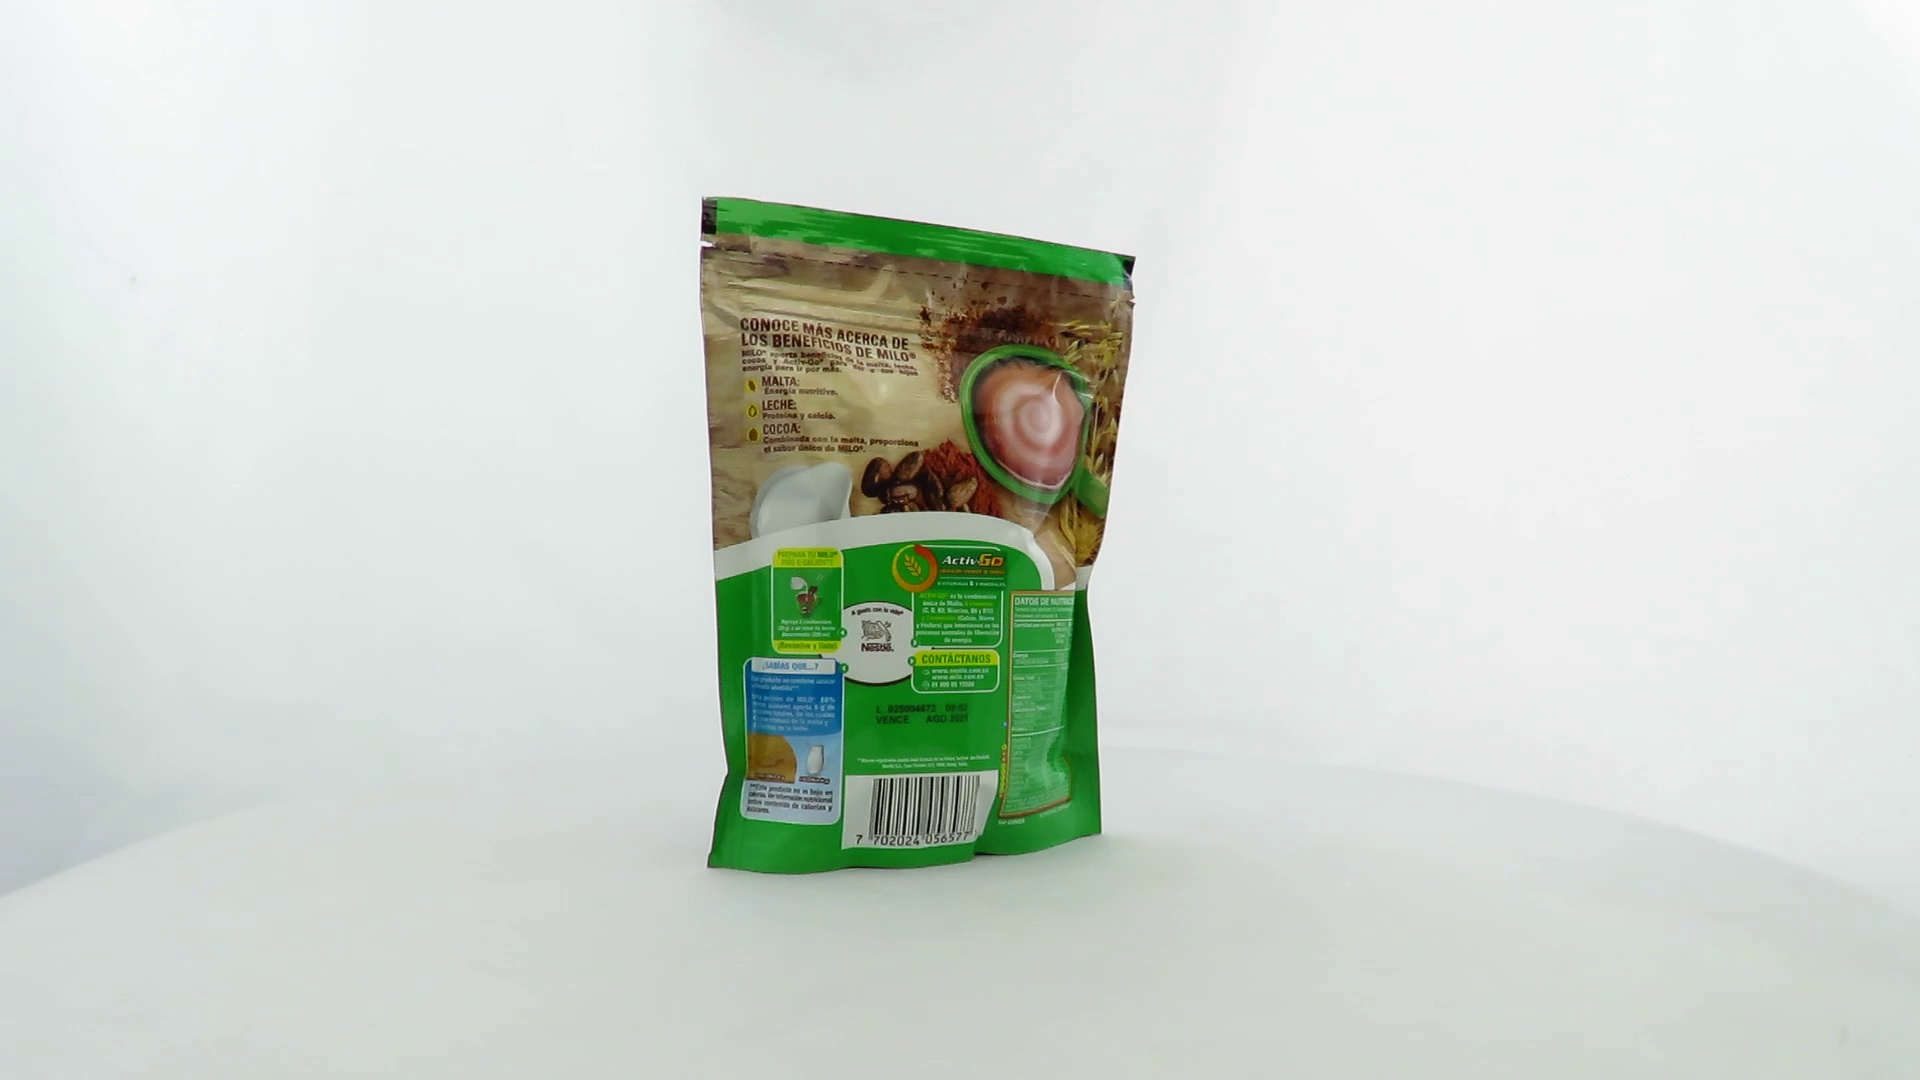COL0170205DYP20000: (694, 191, 1142, 881)
